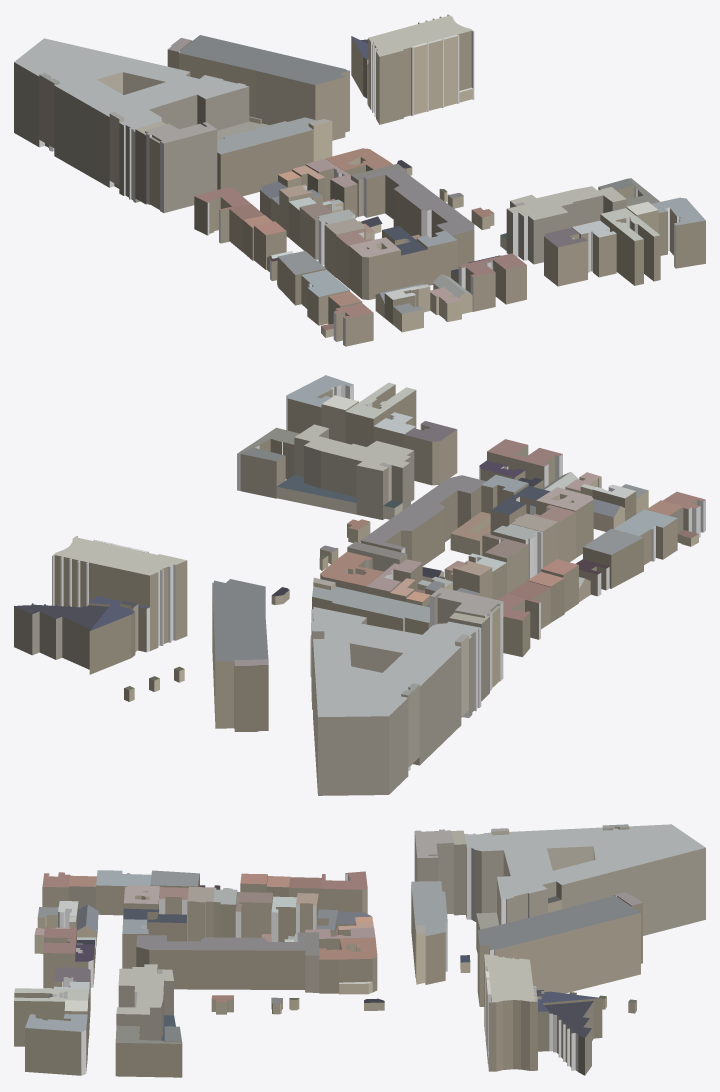
3 views of the same model, one above another, from view 1: azimuth 30°, elevation 25°; view 2: azimuth 150°, elevation 25°; view 3: azimuth 270°, elevation 25° (orthographic). The views are drawn at different scales.
Visible parts, largest first — view 1: tuile; view 2: tuile; view 3: tuile.
Boxes of the visible parts, box(x1,y1,x2,y2) form: tuile: box(14, 14, 705, 346); tuile: box(14, 375, 705, 795); tuile: box(14, 824, 705, 1077).
Size of the model in its own units: 188 by 36.05 by 289.
